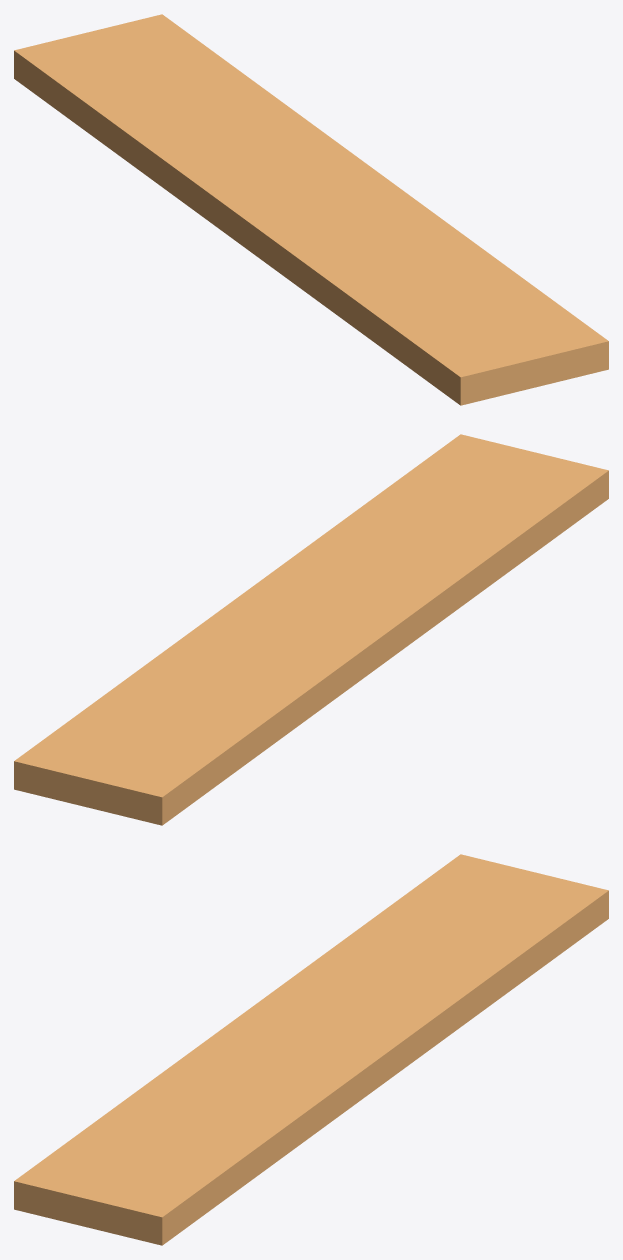
Rendered from Crate_broken.fbx.
The picture shows the model from 3 angles, top to bottom: view 1: azimuth 30°, elevation 25°; view 2: azimuth 150°, elevation 25°; view 3: azimuth 330°, elevation 25°; orthographic projection.
Visible parts, largest first — view 1: Plank, Plank.004, Plank.003, Plank.002, Plank.006, Plank.007, Plank.001, Plank.005, Plank.008; view 2: Plank, Plank.003, Plank.004, Plank.002, Plank.006, Plank.005, Plank.007, Plank.001; view 3: Plank.004, Plank, Plank.002, Plank.003, Plank.007, Plank.006, Plank.001, Plank.008.
Boxes of the visible parts, left/top/right/bottom form: Plank: left=143, top=71, right=608, bottom=405; Plank.004: left=80, top=36, right=608, bottom=403; Plank.003: left=14, top=15, right=431, bottom=381; Plank.002: left=14, top=14, right=505, bottom=295; Plank.006: left=110, top=14, right=544, bottom=294; Plank.007: left=288, top=226, right=554, bottom=405; Plank.001: left=78, top=27, right=281, bottom=157; Plank.005: left=14, top=52, right=406, bottom=337; Plank.008: left=325, top=156, right=608, bottom=381; Plank: left=116, top=434, right=608, bottom=732; Plank.003: left=14, top=495, right=575, bottom=825; Plank.004: left=99, top=434, right=608, bottom=779; Plank.002: left=14, top=497, right=454, bottom=825; Plank.006: left=14, top=477, right=402, bottom=801; Plank.005: left=99, top=499, right=569, bottom=824; Plank.007: left=263, top=448, right=608, bottom=678; Plank.001: left=68, top=570, right=346, bottom=809; Plank.004: left=15, top=877, right=533, bottom=1242; Plank: left=14, top=915, right=511, bottom=1245; Plank.002: left=173, top=854, right=608, bottom=1127; Plank.003: left=49, top=855, right=608, bottom=1155; Plank.007: left=14, top=1001, right=335, bottom=1231; Plank.006: left=218, top=878, right=608, bottom=1202; Plank.001: left=280, top=869, right=554, bottom=1077; Plank.008: left=108, top=1062, right=351, bottom=1245.
Bounding box in the file's own units: 38.33 × 7 × 200.
